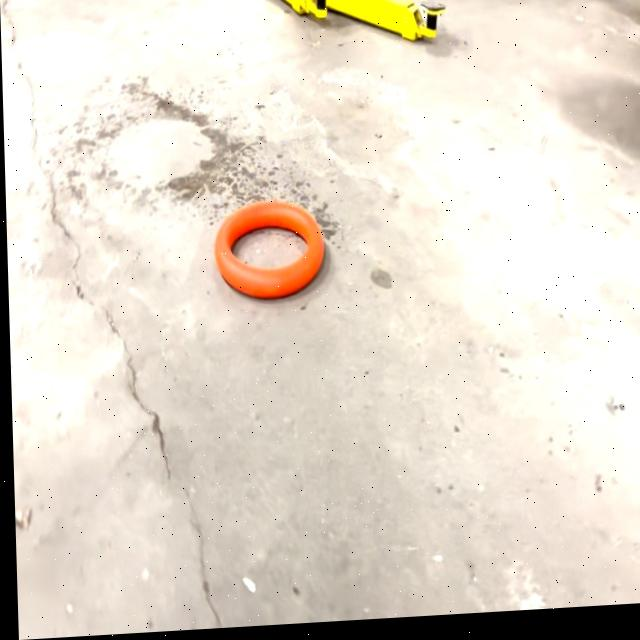note: (215, 205, 324, 300)
